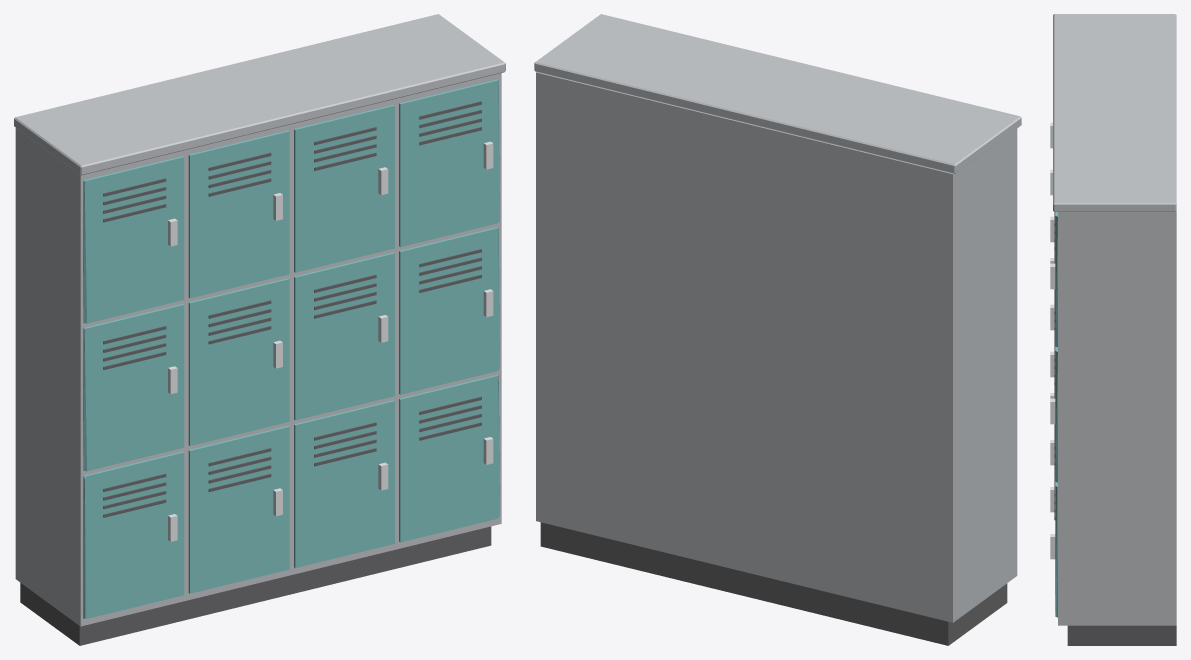
The model's file is lockers.glb.
3 views of the same model, side by side, from view 1: azimuth 30°, elevation 25°; view 2: azimuth 150°, elevation 25°; view 3: azimuth 270°, elevation 25° (orthographic). The views are drawn at different scales.
Visible parts, largest first — view 1: lockers_vinyl_t, lockers_steel, lockers_dark, lockers_chrome; view 2: lockers_steel, lockers_dark; view 3: lockers_steel, lockers_dark, lockers_chrome, lockers_vinyl_t.
Part boxes in pixels (left/top/right/bottom): lockers_vinyl_t: left=83, top=79, right=499, bottom=618; lockers_steel: left=14, top=14, right=505, bottom=626; lockers_dark: left=20, top=101, right=491, bottom=645; lockers_chrome: left=168, top=141, right=493, bottom=541; lockers_steel: left=534, top=14, right=1021, bottom=622; lockers_dark: left=540, top=522, right=1007, bottom=645; lockers_steel: left=1053, top=14, right=1176, bottom=625; lockers_dark: left=1054, top=212, right=1176, bottom=645; lockers_chrome: left=1050, top=122, right=1055, bottom=559; lockers_vinyl_t: left=1055, top=212, right=1057, bottom=617.
Bounding box in the file's own units: 1.82 × 1.99 × 0.51.
